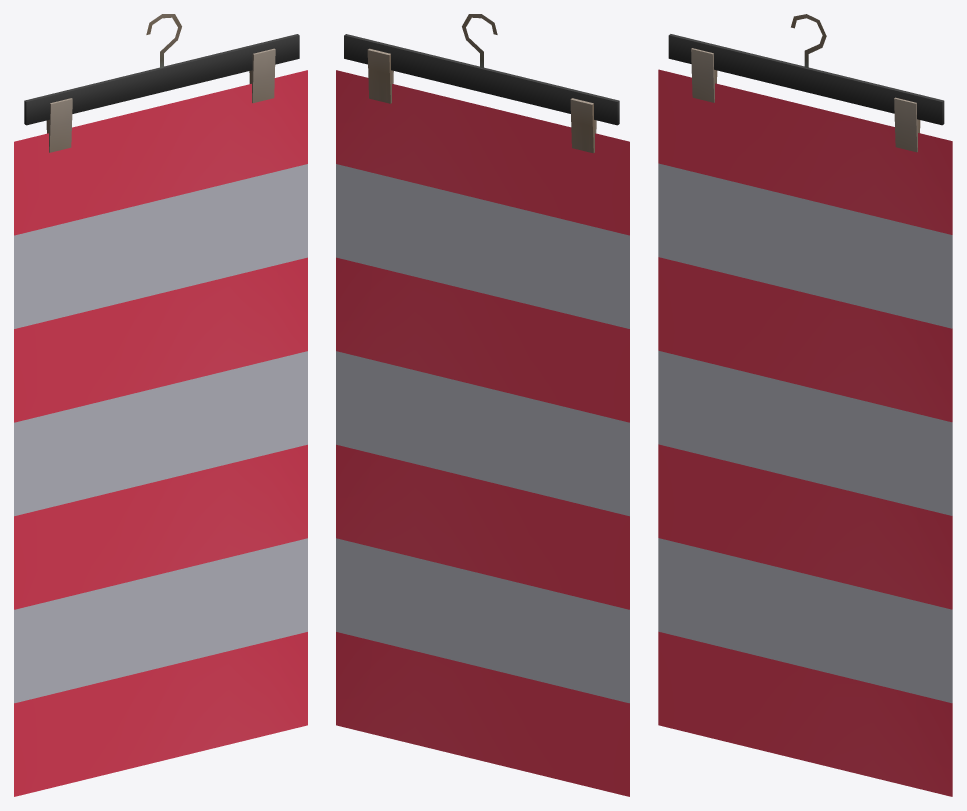
File: Hang_Towel_05.fbx
The picture shows the model from 3 angles, left to right: view 1: azimuth 30°, elevation 25°; view 2: azimuth 150°, elevation 25°; view 3: azimuth 330°, elevation 25°; orthographic projection.
Visible parts, largest first — view 1: Hang_Towel_05; view 2: Hang_Towel_05; view 3: Hang_Towel_05.
Part boxes in pixels (x1,y1,x2,y2): Hang_Towel_05: (14,14,307,796); Hang_Towel_05: (336,14,629,796); Hang_Towel_05: (658,14,952,796).
Bounding box in the file's own units: 0.1666 × 0.4049 × 0.00506.
